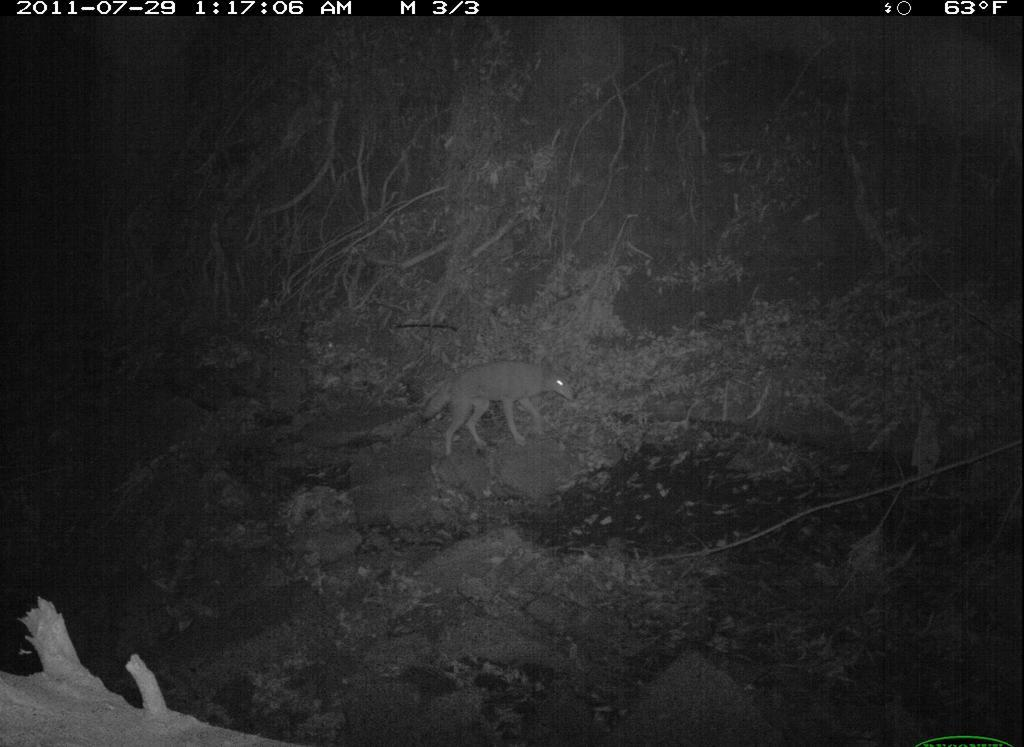coyote: (408, 354, 583, 457)
